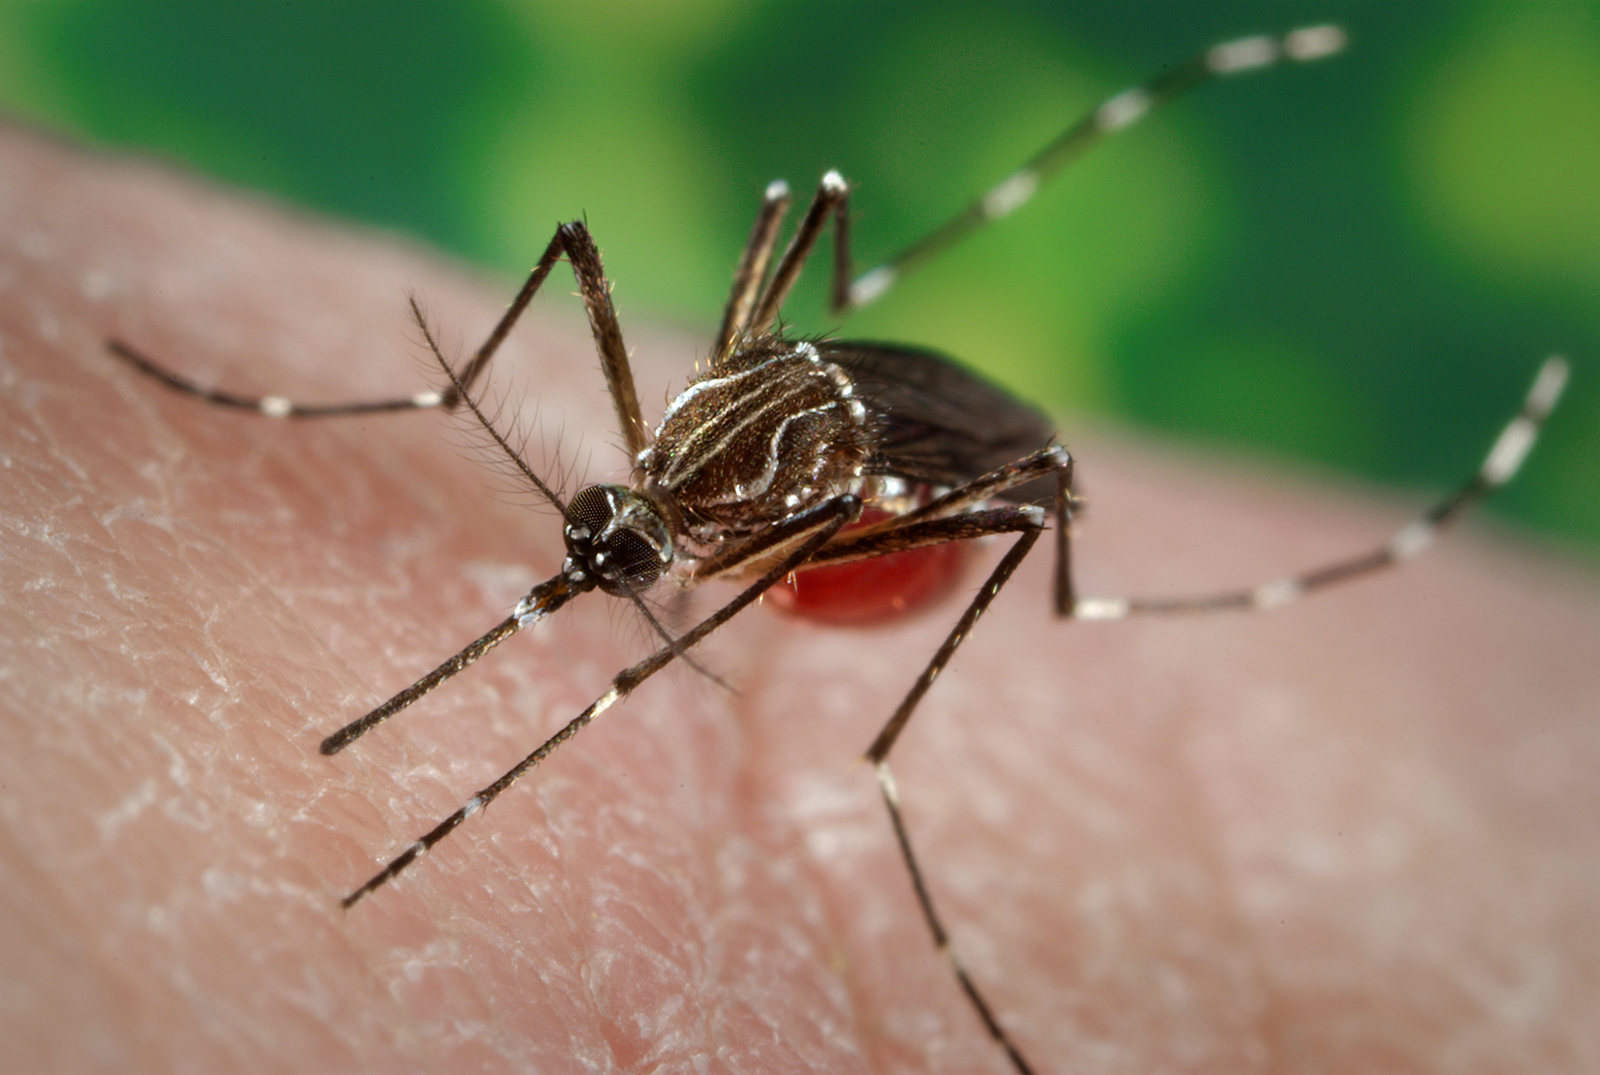dengue_mosquito: (321, 166, 1150, 912)
